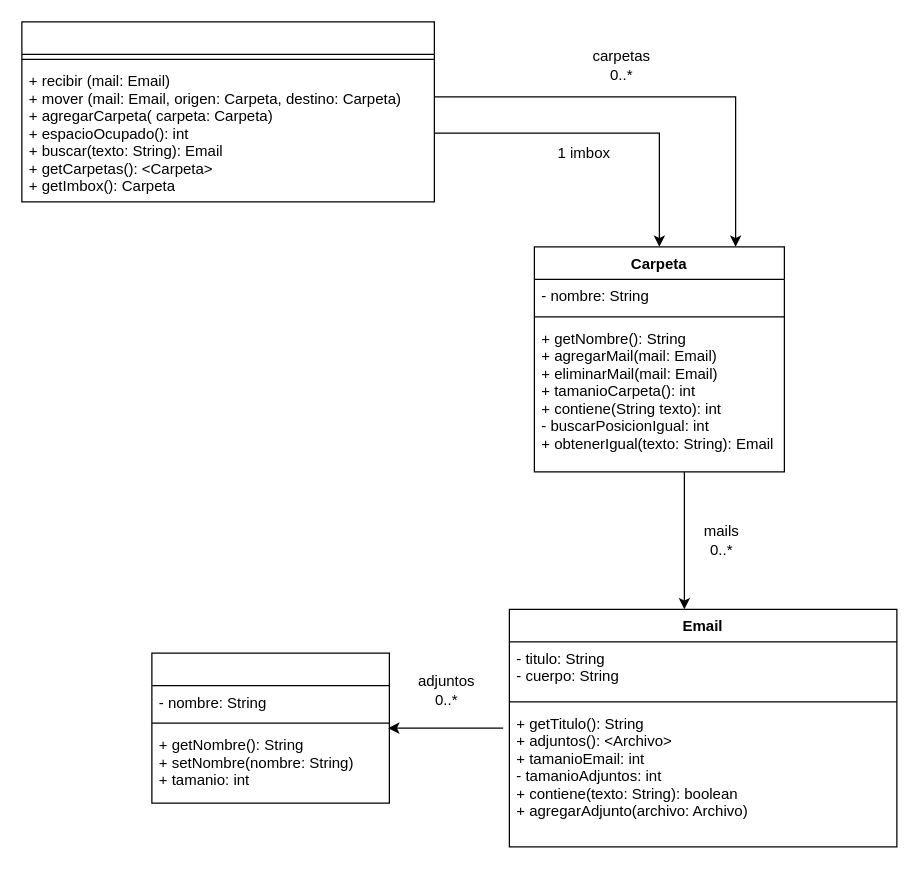
This 919x873 diagram has some shape labels left out. Here are the shapes that lost their labels. From the top down, the box of each, then its label:
(21, 21, 434, 202): ClienteDeCorreo
(151, 652, 389, 803): Archivo
